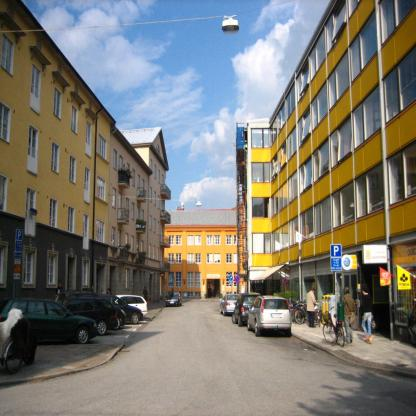Car: (1, 300, 100, 344), (61, 292, 119, 338), (246, 298, 297, 341), (115, 299, 148, 329), (121, 296, 150, 327), (232, 297, 253, 329), (219, 296, 242, 317), (167, 297, 183, 309)
